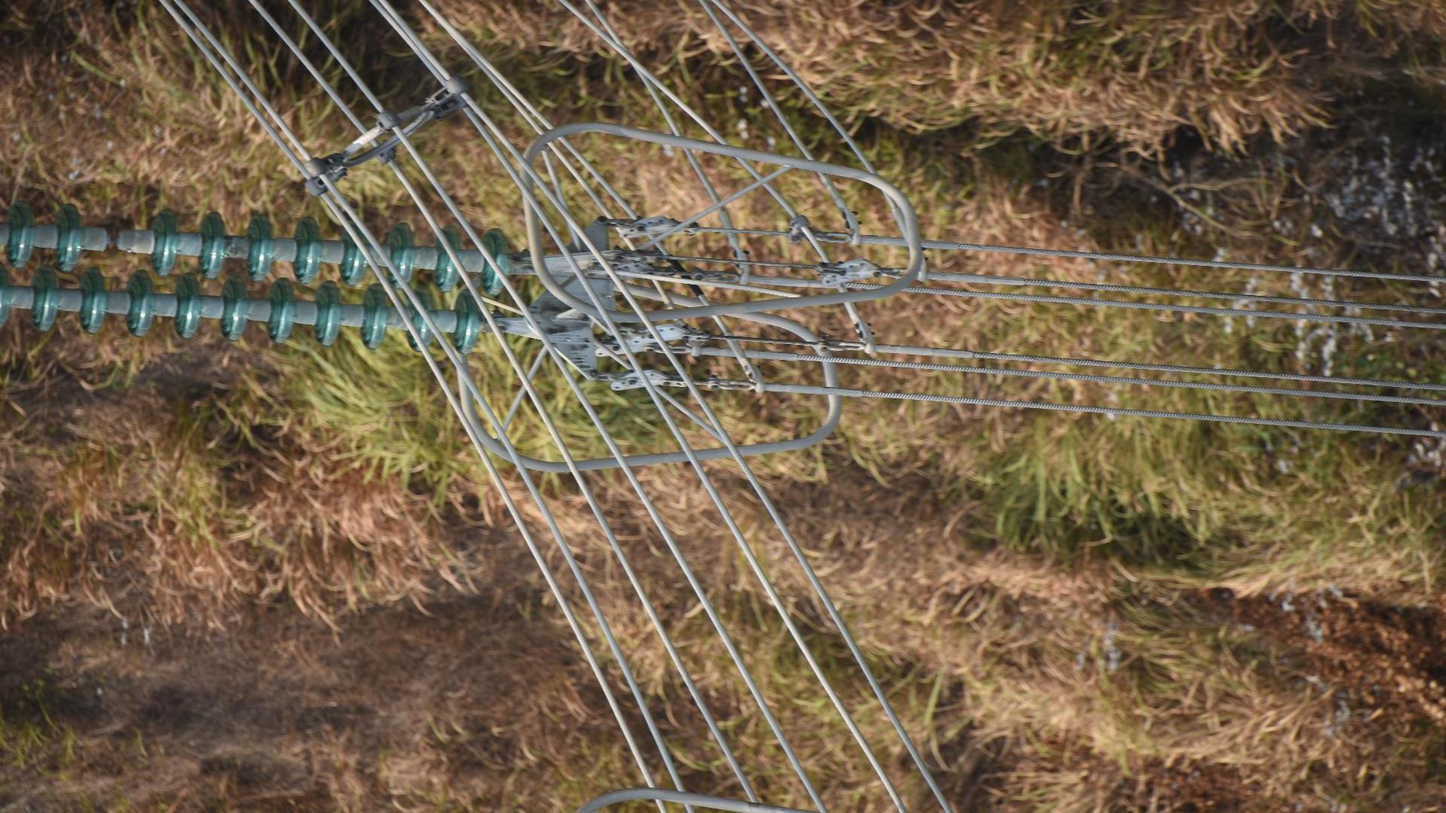insulator: (1, 184, 519, 360)
insulator_stringdrop: (51, 198, 185, 281)
